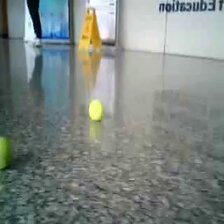tennis: (88, 100, 103, 120)
